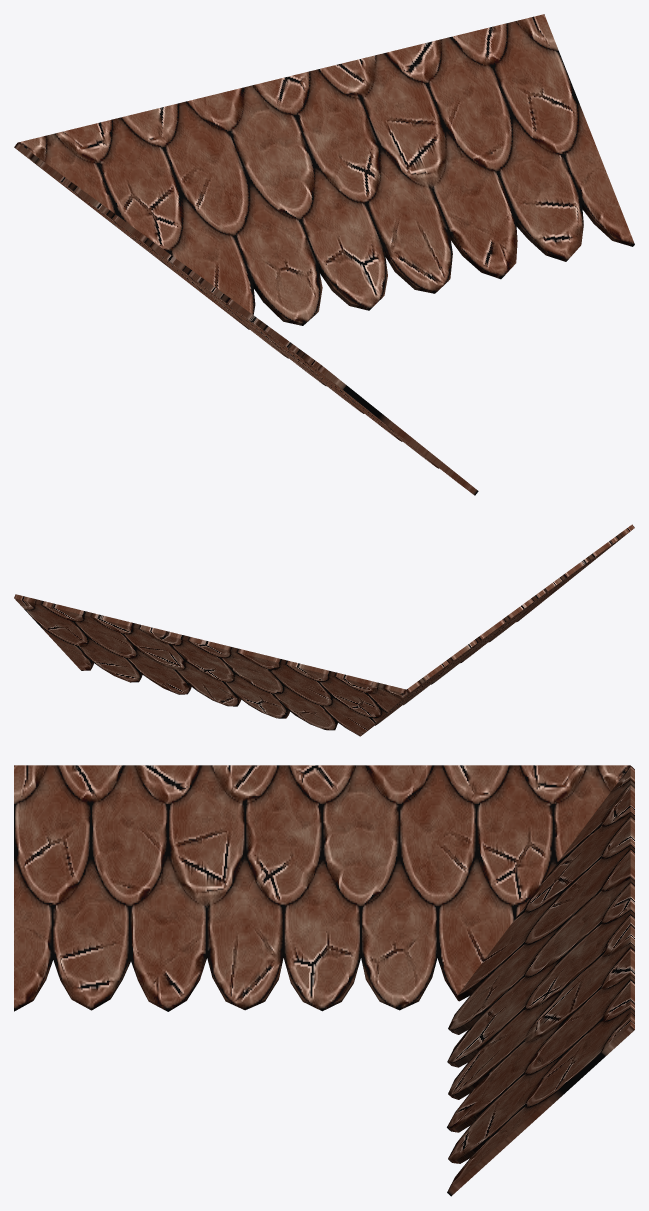
Rendered from GenHouseRoofTrimConcave.fbx.
3 views of the same model, one above another, from view 1: azimuth 30°, elevation 25°; view 2: azimuth 150°, elevation 25°; view 3: azimuth 270°, elevation 25° (orthographic). The views are drawn at different scales.
Parts seen in each view (by area): view 1: GenHouse_Mod_RooftrimConcave; view 2: GenHouse_Mod_RooftrimConcave; view 3: GenHouse_Mod_RooftrimConcave.
Part boxes in pixels (x1,y1,x2,y2): GenHouse_Mod_RooftrimConcave: (14, 14, 634, 495); GenHouse_Mod_RooftrimConcave: (14, 524, 634, 736); GenHouse_Mod_RooftrimConcave: (14, 765, 634, 1196).
Size of the model in its own units: 5.31 by 1.61 by 5.31.
